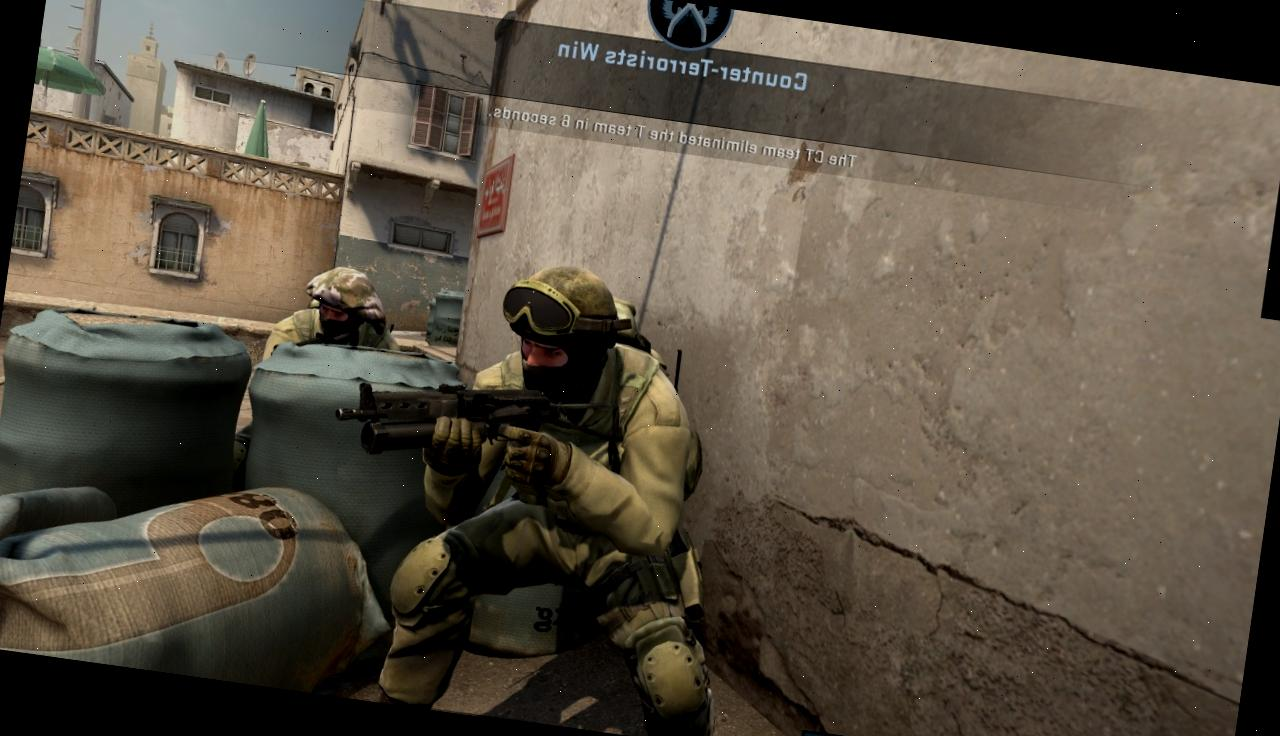ct: (386, 247, 722, 736)
cthead: (496, 255, 628, 404), (310, 268, 372, 340)
